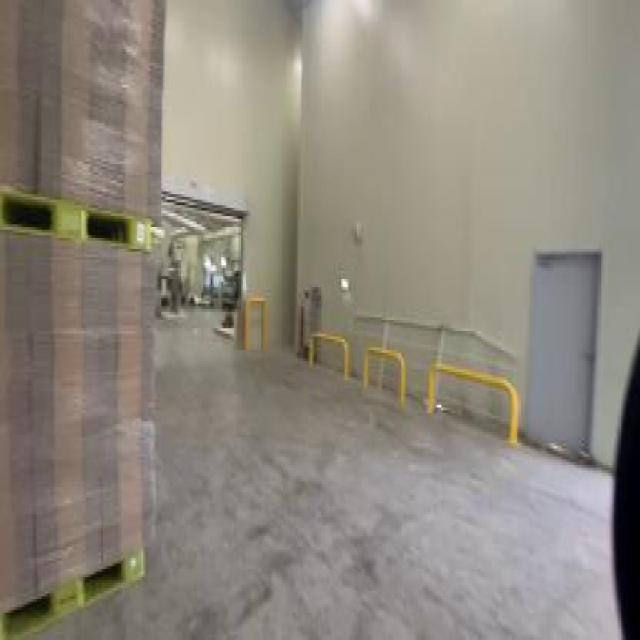box: (2, 3, 163, 615)
